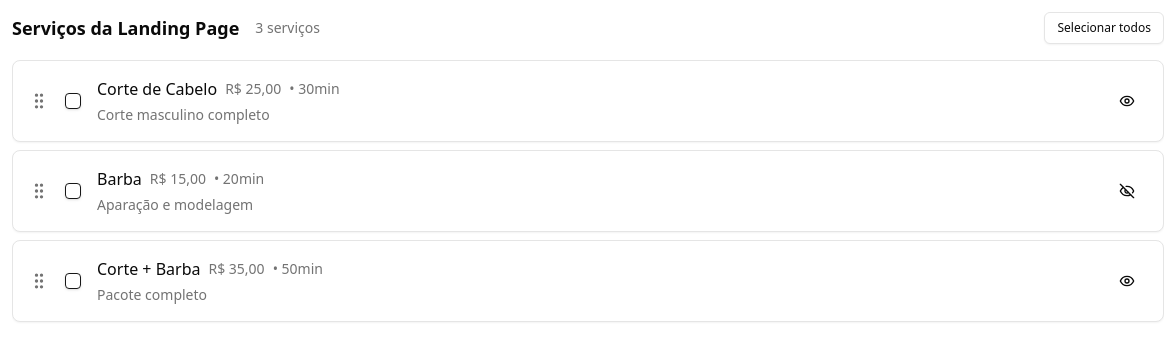
ServiceManager › Controles de seleção › should clear selection when clear button is clicked
What coordinates should you click on to do the following:
click the button "Selecionar todos"
I would click on:
 (1104, 28)
Its box is [1044,12,1164,44].
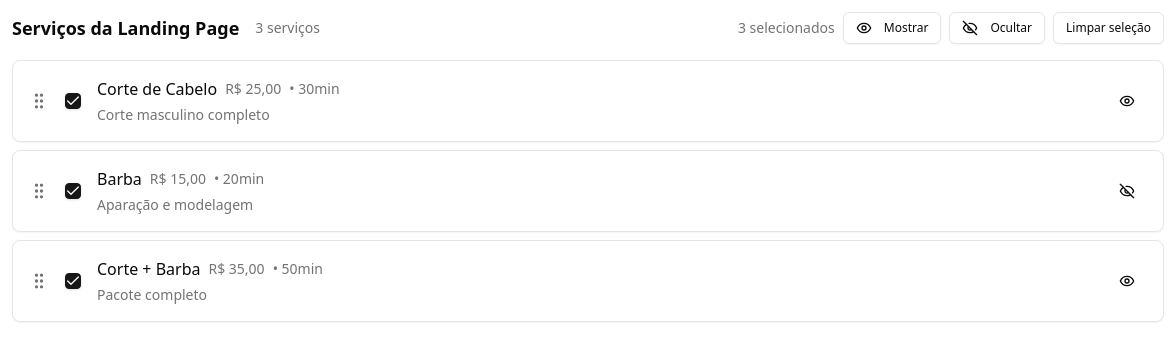
// Limpar seleção
What coordinates should you click on to do the following:
click the button "Limpar seleção"
I would click on:
 (1109, 28)
Its box is [1053,12,1164,44].
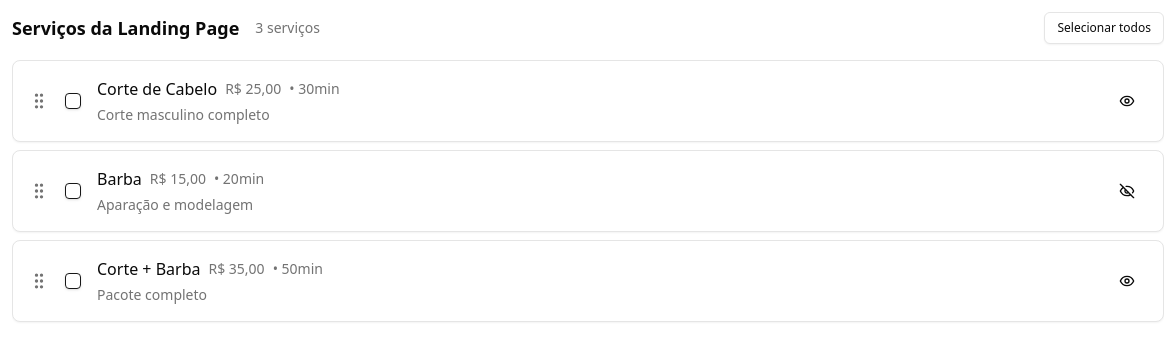
Expected: the checkbox next to "Corte de Cabelo" is not checked, [65,93,81,109]
Expected: the checkbox next to "Aparação e modelagem" is not checked, [65,183,81,199]
Expected: the checkbox next to "Corte + Barba" is not checked, [65,273,81,289]
